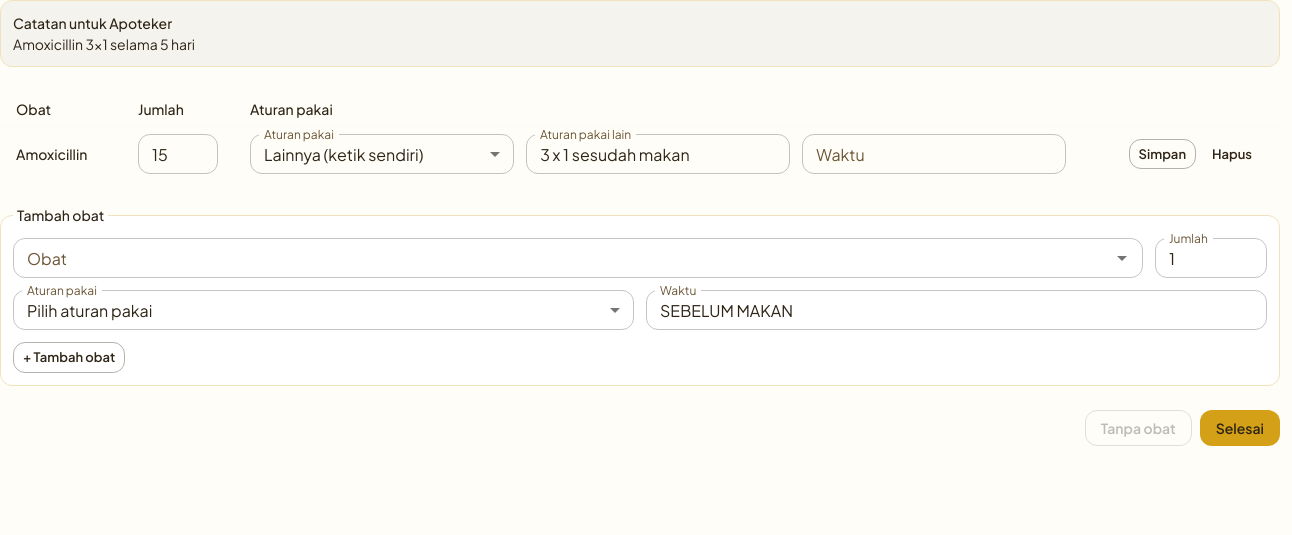
Scenario: editor penyerahan › Selesai memanggil server dengan versi; pesan stok kurang dari server ditampilkan
This screenshot has width=1292, height=535.
Step 1. Click the button "Selesai" → (1240, 428), box [1200,410,1280,446]
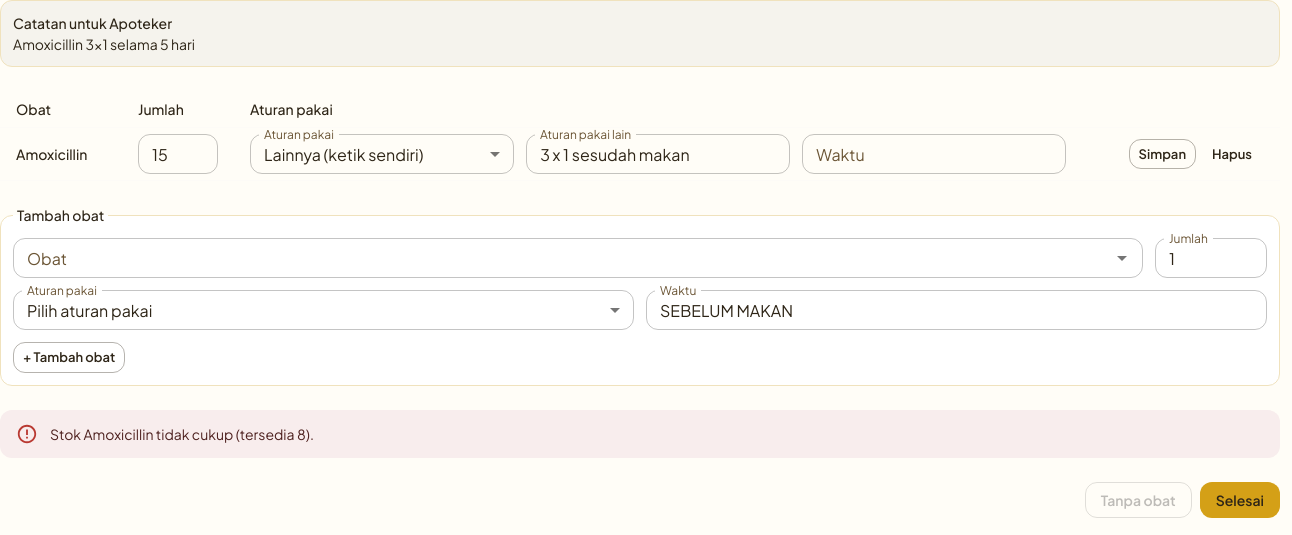
Check: the message reads "Stok Amoxicillin tidak cukup (tersedia 8).", box [50,425,314,443]
